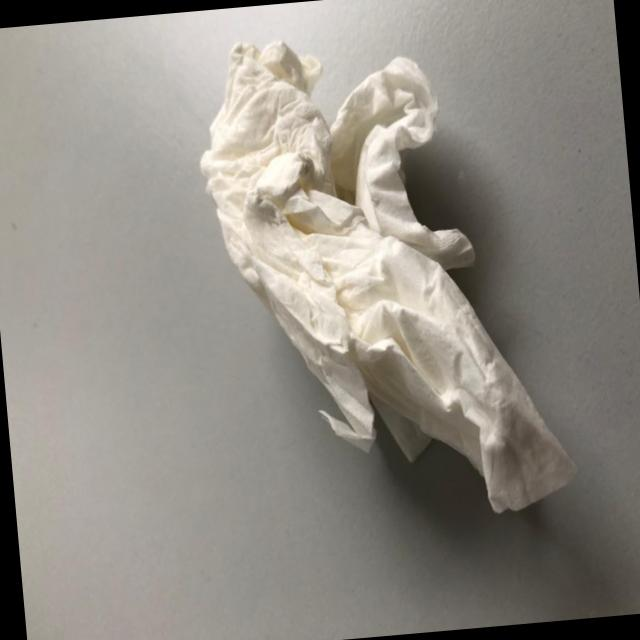organic waste: (183, 13, 585, 536)
